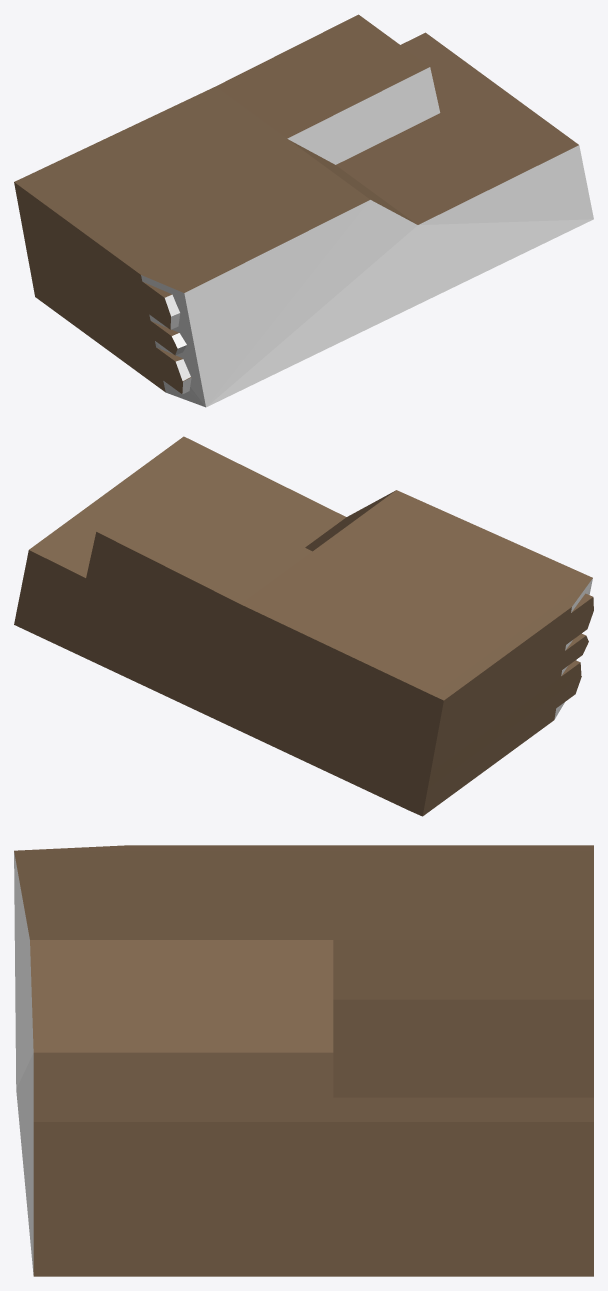
3 renders of one model, top to bottom at view 1: azimuth 30°, elevation 25°; view 2: azimuth 150°, elevation 25°; view 3: azimuth 270°, elevation 25°, orthographic. The views are drawn at different scales.
Visible parts, largest first — view 1: City_1885060; view 2: City_1885060; view 3: City_1885060.
Boxes of the visible parts, box(x1,y1,x2,y2) form: City_1885060: box(14, 14, 593, 407); City_1885060: box(14, 436, 593, 816); City_1885060: box(14, 845, 593, 1276).
Bounding box in the file's own units: 2633 × 1202 × 1702.
